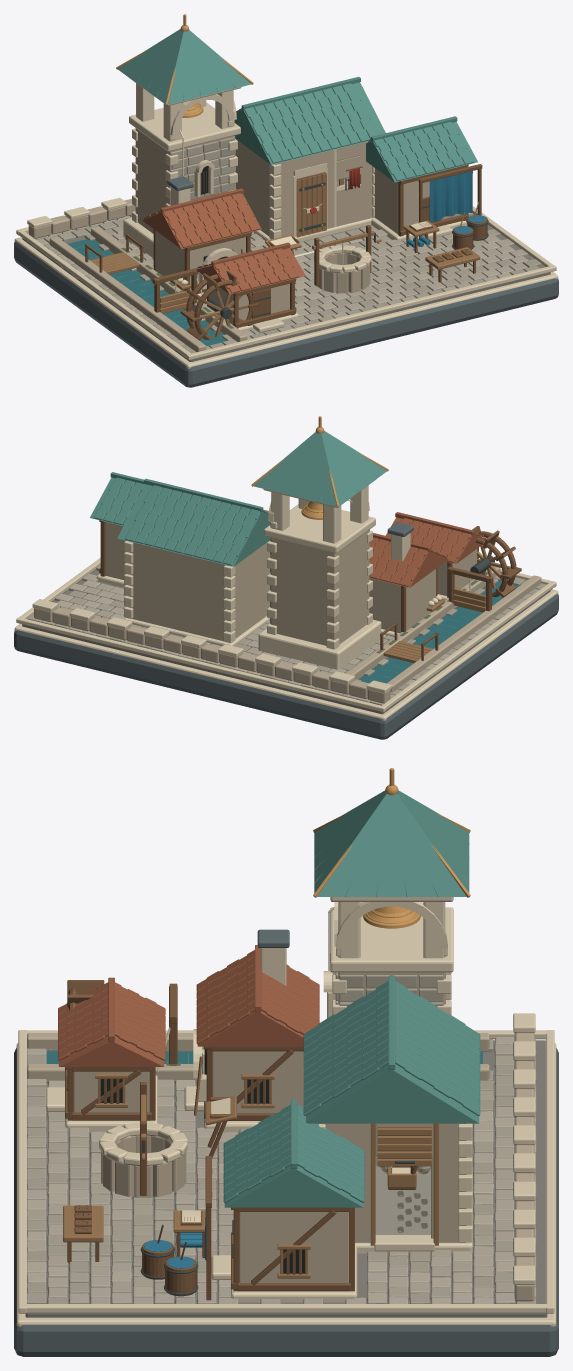
Rendered from village.glb.
The picture shows the model from 3 angles, top to bottom: view 1: azimuth 30°, elevation 25°; view 2: azimuth 150°, elevation 25°; view 3: azimuth 270°, elevation 25°; orthographic projection. The views are drawn at different scales.
Visible parts, largest first — view 1: 00_Plaza__Static__Foundation basalt, 00_Plaza__Static__Cut stone pale edges, 02_Granary__RemovableRoof__Patinated copper, 01_BellTower__Static__Cut stone pale edges, 02_Granary__Static__Limestone warm ivory, 01_BellTower__Static__Patinated copper, 00_Plaza__Static__Limestone warm ivory, 04_Dyehouse__Static__Patinated copper, 03_Bakery__Static__Fired terracotta, 05_Watermill__Static__Weathered oak, 05_Watermill__Static__Fired terracotta, 01_BellTower__Static__Limestone warm ivory (+26 smaller); view 2: 00_Plaza__Static__Foundation basalt, 00_Plaza__Static__Cut stone pale edges, 02_Granary__Static__Limestone warm ivory, 01_BellTower__Static__Cut stone pale edges, 02_Granary__RemovableRoof__Patinated copper, 00_Plaza__Static__Limestone warm ivory, 01_BellTower__Static__Limestone warm ivory, 01_BellTower__Static__Patinated copper, 03_Bakery__Static__Limestone warm ivory, 02_Granary__Static__Cut stone pale edges, 03_Bakery__Static__Fired terracotta, 05_Watermill__Static__Weathered oak (+15 smaller); view 3: 02_Granary__RemovableRoof__Patinated copper, 00_Plaza__Static__Cut stone pale edges, 00_Plaza__Static__Foundation basalt, 01_BellTower__Static__Patinated copper, 04_Dyehouse__Static__Patinated copper, 01_BellTower__Static__Cut stone pale edges, 00_Plaza__Static__Warm mortar, 03_Bakery__Static__Fired terracotta, 00_Plaza__Static__Paver 04, 05_Watermill__Static__Fired terracotta, 00_Plaza__Static__Paver 00, 00_Plaza__Static__Paver 02 (+27 smaller).
Boxes of the visible parts, x1,y1,x2,y2 form: 00_Plaza__Static__Foundation basalt: [14, 242, 558, 387]; 00_Plaza__Static__Cut stone pale edges: [14, 197, 558, 368]; 02_Granary__RemovableRoof__Patinated copper: [234, 77, 385, 164]; 01_BellTower__Static__Cut stone pale edges: [123, 78, 241, 259]; 02_Granary__Static__Limestone warm ivory: [235, 139, 374, 236]; 01_BellTower__Static__Patinated copper: [117, 29, 251, 104]; 00_Plaza__Static__Limestone warm ivory: [28, 199, 247, 351]; 04_Dyehouse__Static__Patinated copper: [366, 116, 477, 182]; 03_Bakery__Static__Fired terracotta: [142, 188, 261, 248]; 05_Watermill__Static__Weathered oak: [85, 234, 296, 340]; 05_Watermill__Static__Fired terracotta: [196, 242, 305, 294]; 01_BellTower__Static__Limestone warm ivory: [135, 128, 234, 233]; 00_Plaza__Static__Foundation basalt: [14, 594, 558, 739]; 00_Plaza__Static__Cut stone pale edges: [14, 558, 558, 720]; 02_Granary__Static__Limestone warm ivory: [130, 540, 270, 641]; 01_BellTower__Static__Cut stone pale edges: [258, 480, 381, 669]; 02_Granary__RemovableRoof__Patinated copper: [117, 478, 270, 566]; 00_Plaza__Static__Limestone warm ivory: [34, 566, 541, 703]; 01_BellTower__Static__Limestone warm ivory: [270, 530, 369, 645]; 01_BellTower__Static__Patinated copper: [253, 431, 386, 506]; 03_Bakery__Static__Limestone warm ivory: [369, 569, 435, 633]; 02_Granary__Static__Cut stone pale edges: [124, 541, 269, 646]; 03_Bakery__Static__Fired terracotta: [369, 533, 448, 587]; 05_Watermill__Static__Weathered oak: [380, 526, 521, 660]; 02_Granary__RemovableRoof__Patinated copper: [303, 975, 480, 1123]; 00_Plaza__Static__Cut stone pale edges: [16, 1013, 556, 1326]; 00_Plaza__Static__Foundation basalt: [14, 1048, 558, 1356]; 01_BellTower__Static__Patinated copper: [314, 790, 469, 896]; 04_Dyehouse__Static__Patinated copper: [223, 1099, 364, 1207]; 01_BellTower__Static__Cut stone pale edges: [323, 897, 453, 1018]; 00_Plaza__Static__Warm mortar: [25, 1040, 547, 1317]; 03_Bakery__Static__Fired terracotta: [196, 945, 319, 1046]; 00_Plaza__Static__Paver 04: [27, 1037, 536, 1303]; 05_Watermill__Static__Fired terracotta: [58, 977, 165, 1066]; 00_Plaza__Static__Paver 00: [27, 1049, 536, 1303]; 00_Plaza__Static__Paver 02: [27, 1044, 536, 1303].
Bounding box in the file's own units: 13 × 8.57 × 10.6.
